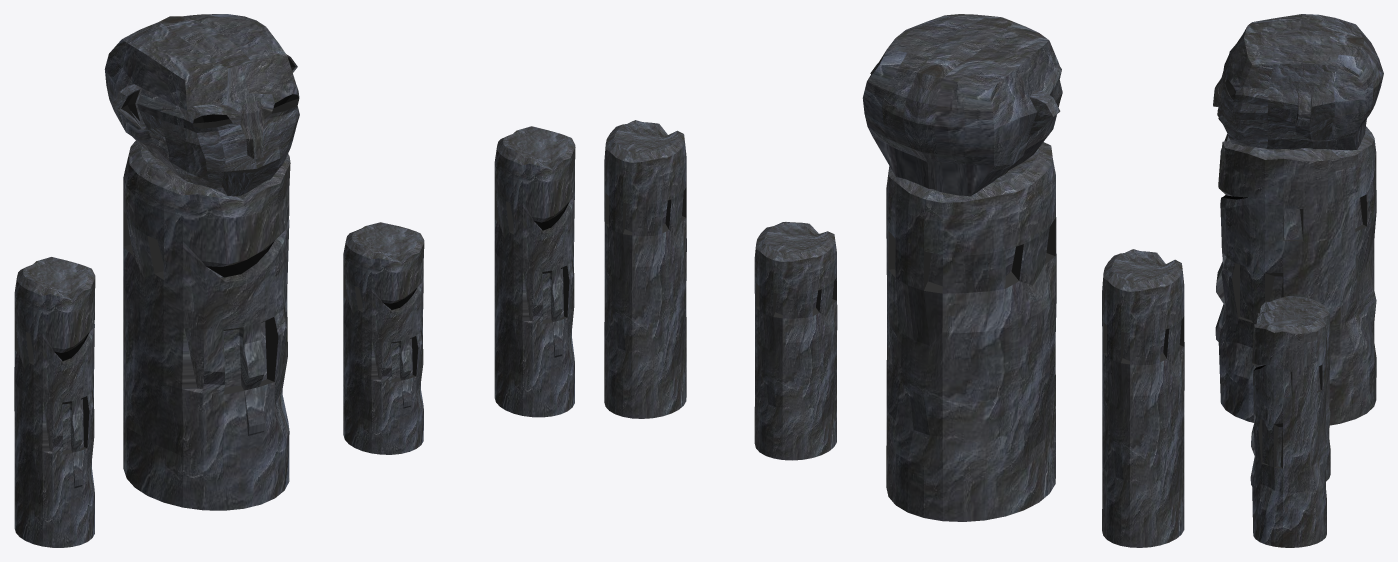
The model's file is anito.glb.
3 views of the same model, side by side, from view 1: azimuth 30°, elevation 25°; view 2: azimuth 150°, elevation 25°; view 3: azimuth 270°, elevation 25° (orthographic). The views are drawn at different scales.
Visible parts, largest first — view 1: totem, head, totem.002, totem.003, totem.001; view 2: totem, head, totem.002, totem.003, totem.001; view 3: totem, head, totem.002, totem.001.
Part boxes in pixels (x1=…): totem: x1=123, y1=141, x2=290, y2=510; head: x1=104, y1=14, x2=299, y2=196; totem.002: x1=494, y1=126, x2=575, y2=417; totem.003: x1=14, y1=257, x2=95, y2=547; totem.001: x1=343, y1=222, x2=424, y2=454; totem: x1=886, y1=142, x2=1056, y2=521; head: x1=862, y1=14, x2=1062, y2=196; totem.002: x1=604, y1=120, x2=686, y2=418; totem.003: x1=1102, y1=249, x2=1184, y2=547; totem.001: x1=754, y1=222, x2=837, y2=460; totem: x1=1215, y1=126, x2=1376, y2=425; head: x1=1213, y1=14, x2=1383, y2=150; totem.002: x1=1250, y1=305, x2=1326, y2=547; totem.001: x1=1256, y1=296, x2=1330, y2=481.
Bounding box in the file's own units: 3.67 × 2.83 × 1.17.
Materials: 5 (2 with a texture image).
